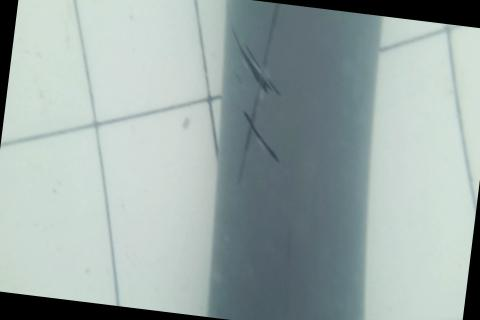keretakan: (212, 0, 301, 194)
